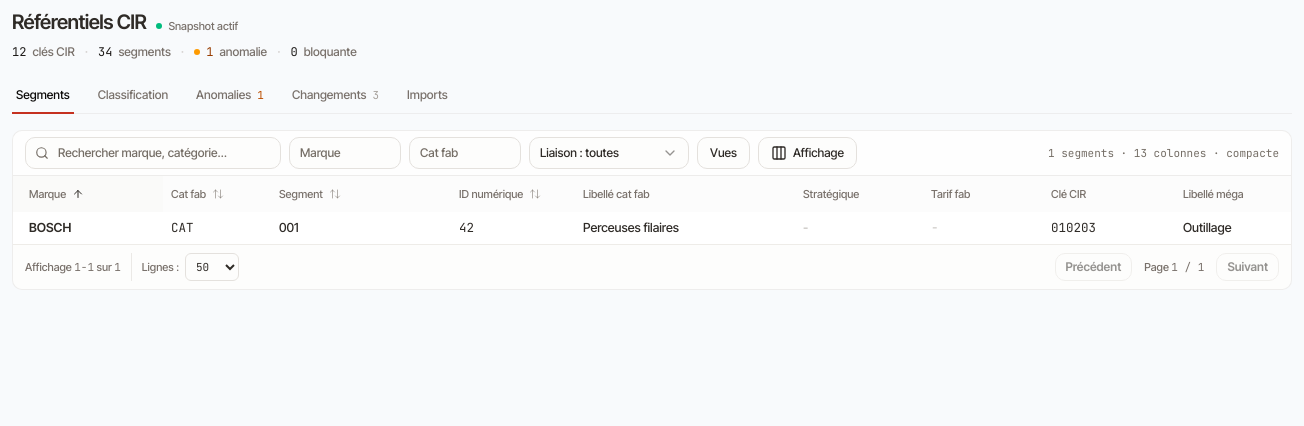
Test case: PricingReferencesPage › expose l onglet Changements avec compteur et surface de comparaison
What coordinates should you click on to do the following:
click the tab "Changements 3"
I would click on:
 (336, 95)
Its box is [288,77,383,113].
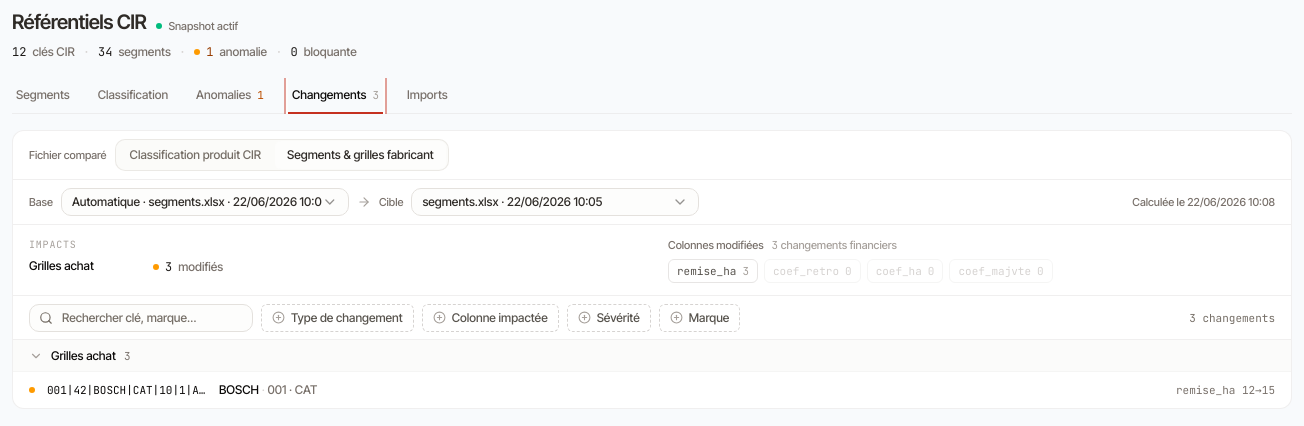
Expected: the text "Impacts" is shown, [29,238,77,251]
Expected: the dropdown named "version cible de la comparaison" is shown, [411,188,699,216]
Expected: the dropdown named "version de base de la comparaison" is shown, [61,188,349,216]
